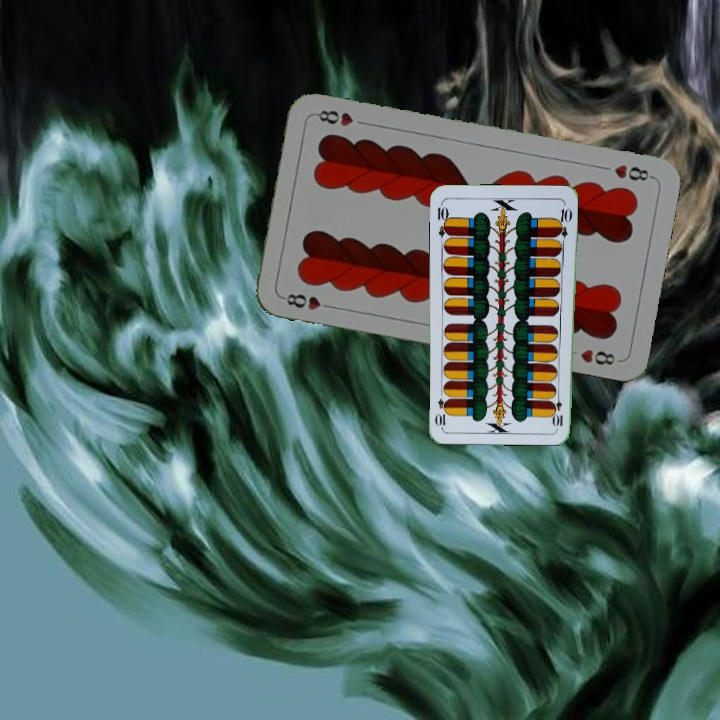E10: (433, 199, 452, 239), (551, 389, 565, 429)
H8: (278, 289, 337, 313), (610, 160, 656, 184)
